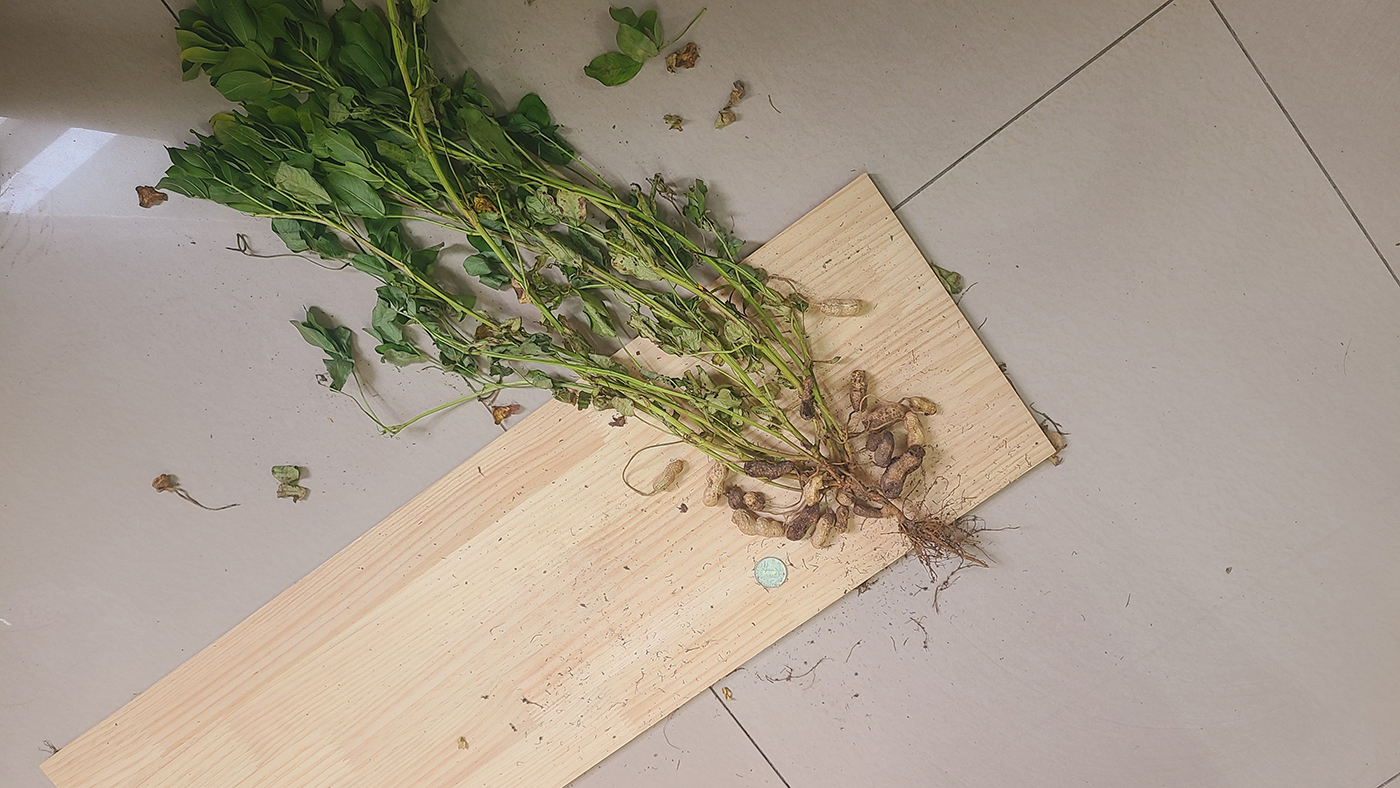h: (732, 508, 785, 538), (703, 461, 729, 508), (652, 460, 683, 492), (811, 512, 836, 548), (869, 403, 910, 423), (820, 299, 863, 317), (904, 412, 925, 447), (802, 476, 823, 506), (909, 395, 938, 416), (743, 490, 767, 512), (835, 505, 850, 535), (836, 490, 856, 507)
l: (880, 445, 926, 499), (786, 502, 820, 540), (744, 459, 796, 479), (850, 368, 868, 412), (875, 430, 894, 468), (801, 375, 817, 419), (853, 503, 881, 519), (728, 485, 743, 510), (866, 432, 879, 452)
